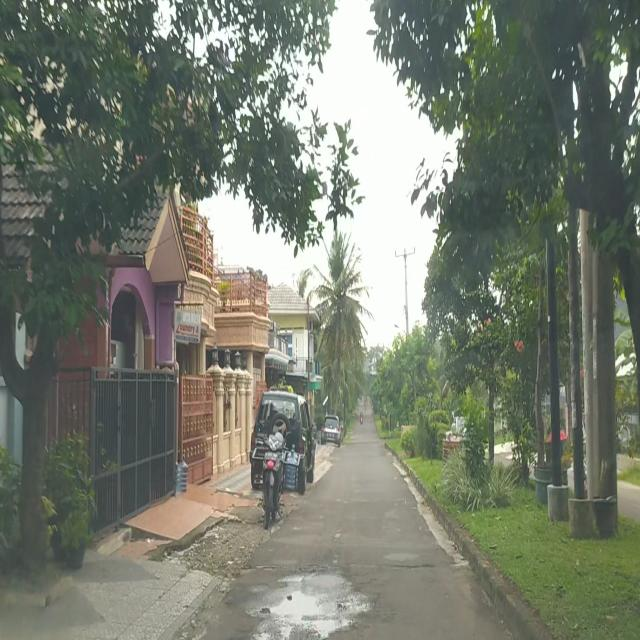Sewer Cover: (382, 564, 434, 570)
